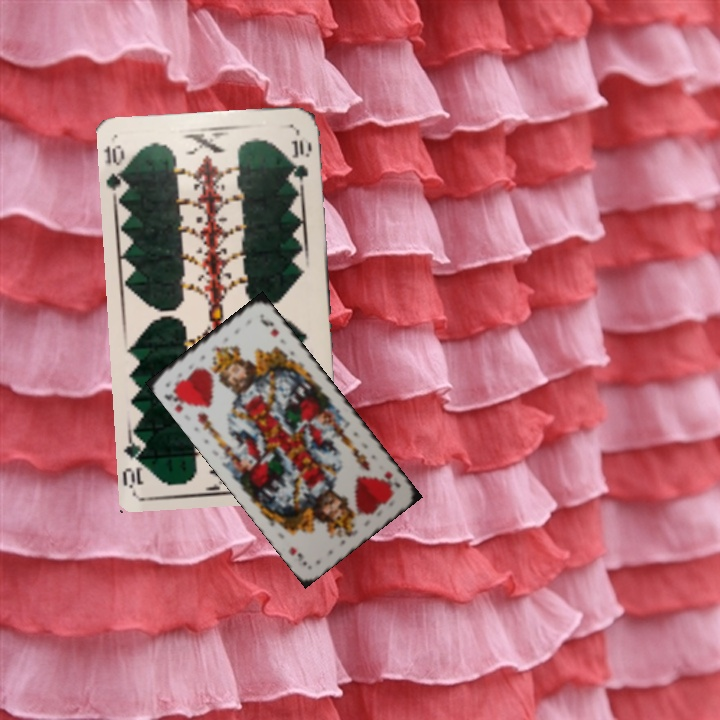G10: (101, 141, 131, 199)
HK: (160, 383, 193, 415), (378, 467, 403, 496)
